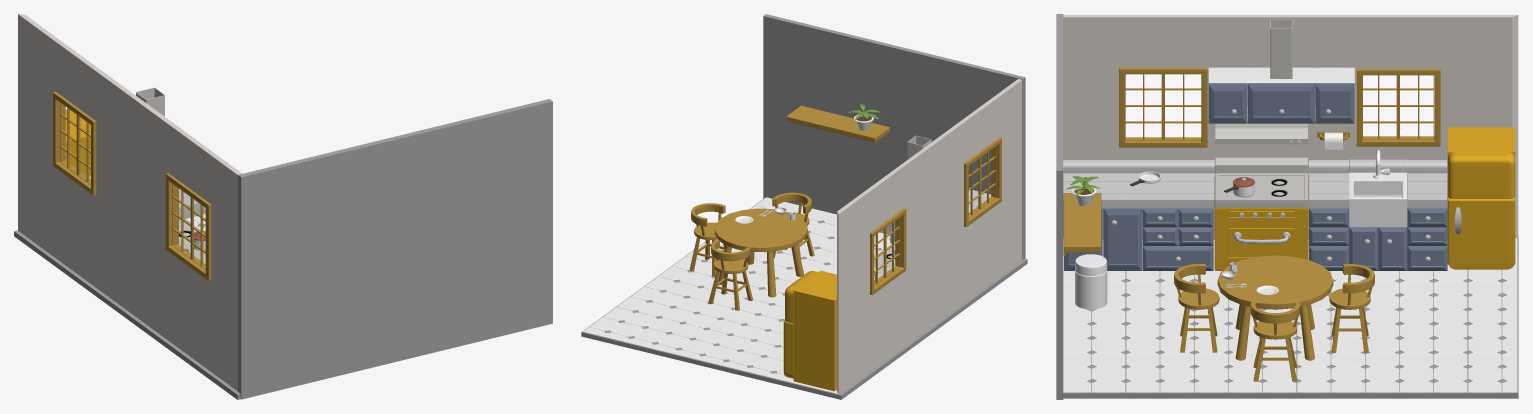
Rendered from Kitchen scene.fbx.
3 views of the same model, side by side, from view 1: azimuth 30°, elevation 25°; view 2: azimuth 150°, elevation 25°; view 3: azimuth 270°, elevation 25° (orthographic). The views are drawn at different scales.
Parts seen in each view (by area): view 1: Wall, Wall_window, window_frame (×2), window_glass (×2), Floor1, refrigerator_body, rangehood_chimney; view 2: Wall_window, Wall, Floor_combine, refrigerator_body, Floor1, table_top, window_frame (×2), shelf_body, window_glass (×2), chair_back (×3), refrigerator_buttondoor, refrigerator_upperdoor (+1 smaller); view 3: Floor_combine, Wall_window, Floor1, Counter_long, window_frame (×2), stove_body, refrigerator_buttondoor, table_top, stove_pot, refrigerator_upperdoor, sink_body, Wall (+30 smaller).
Boxes of the visible parts, x1,y1,x2,y2 form: Wall: (238, 99, 552, 399); Wall_window: (18, 14, 242, 391); window_frame (×2): (53, 91, 211, 280); window_glass (×2): (60, 102, 205, 269); Floor1: (14, 224, 240, 399); refrigerator_body: (65, 109, 90, 176); rangehood_chimney: (136, 87, 164, 116); Wall_window: (837, 79, 1022, 394); Wall: (763, 14, 1025, 260); Floor_combine: (583, 197, 890, 394); refrigerator_body: (793, 270, 836, 391); Floor1: (581, 197, 1027, 399); table_top: (714, 208, 807, 252); window_frame (×2): (870, 137, 1001, 294); shelf_body: (786, 105, 889, 142); window_glass (×2): (874, 146, 996, 285); chair_back (×3): (691, 192, 811, 261); refrigerator_buttondoor: (783, 321, 793, 378); refrigerator_upperdoor: (785, 271, 818, 323); Floor_combine: (1063, 238, 1517, 392); Wall_window: (1063, 15, 1518, 239); Floor1: (1063, 236, 1518, 398); Counter_long: (1063, 160, 1214, 207); window_frame (×2): (1119, 67, 1440, 147); stove_body: (1214, 177, 1308, 270); refrigerator_buttondoor: (1447, 196, 1515, 269); table_top: (1217, 255, 1333, 309); stove_pot: (1215, 157, 1308, 207); refrigerator_upperdoor: (1447, 152, 1515, 198); sink_body: (1349, 172, 1407, 226); Wall: (1056, 14, 1063, 399).
Size of the model in its own units: 31.92 by 21.55 by 39.39.
